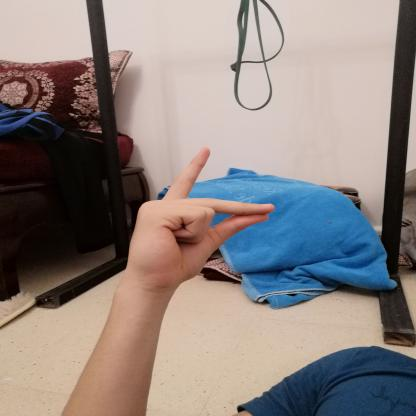TAA: (112, 138, 284, 294)
